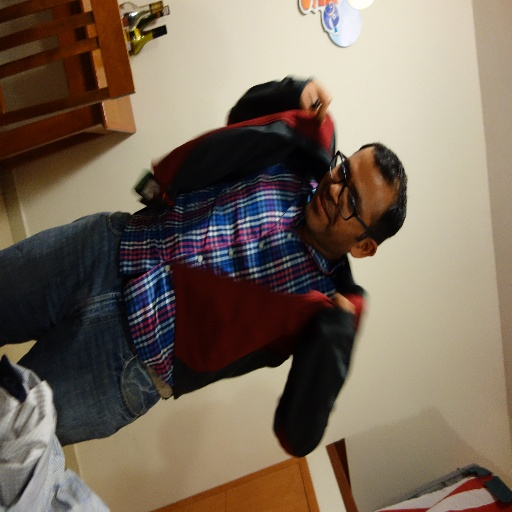hand: (296, 68, 334, 124), (333, 291, 356, 315)
